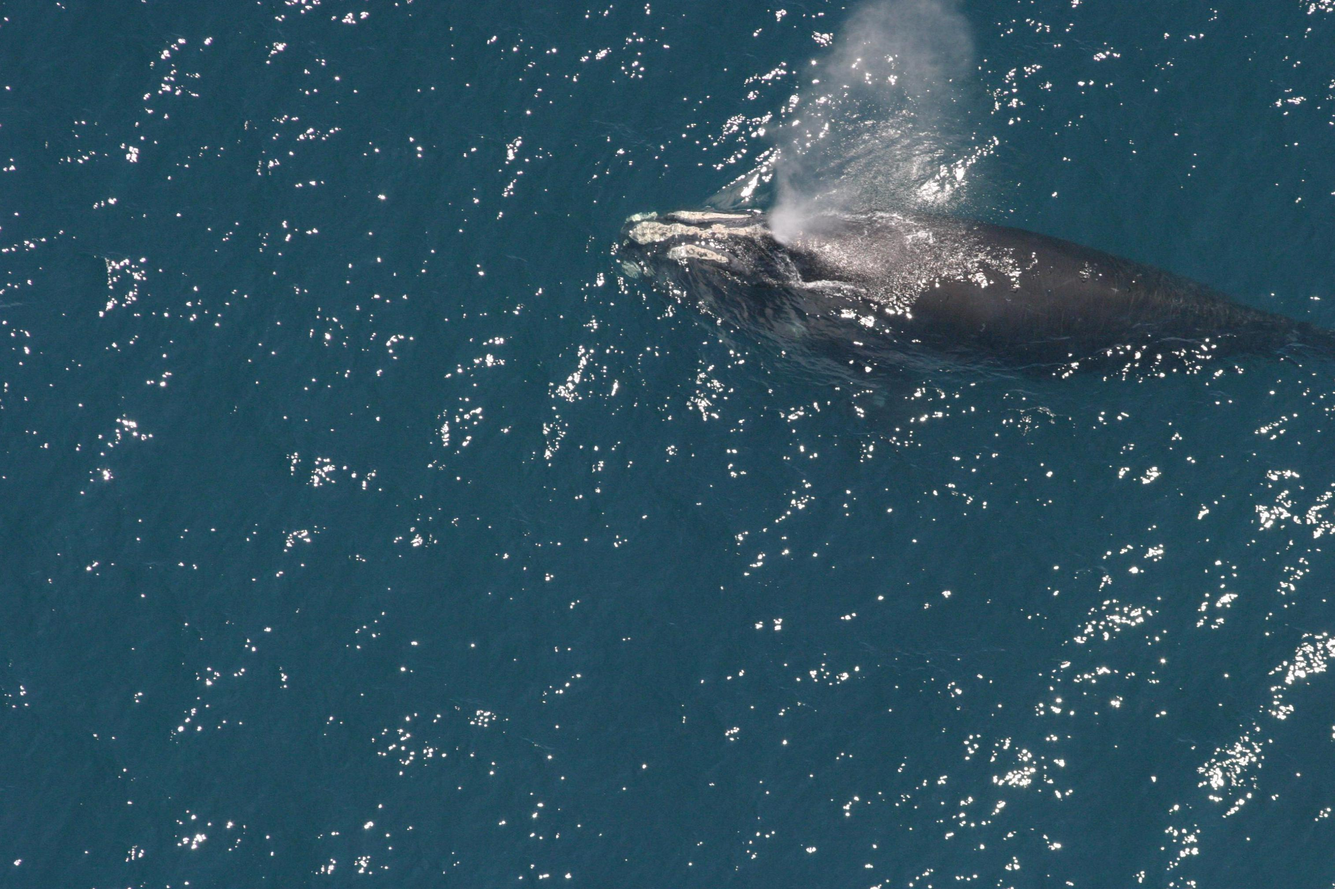whale: (615, 198, 1335, 432)
